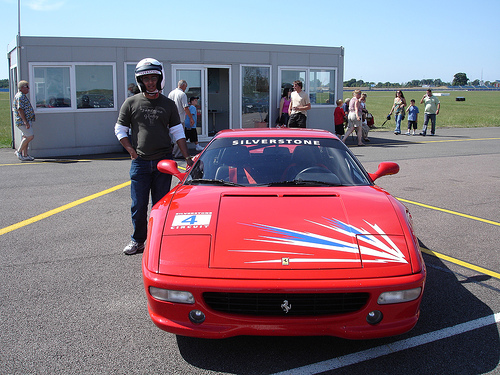helmet: (127, 54, 164, 84)
